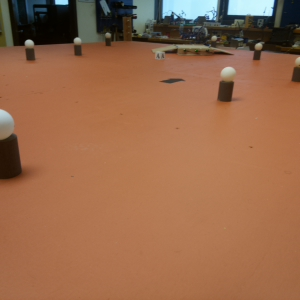obstacle: (1, 106, 23, 182), (216, 65, 237, 103), (71, 36, 85, 55), (24, 39, 36, 61), (292, 58, 300, 81), (253, 43, 262, 61), (104, 29, 112, 48), (211, 34, 218, 45)
side: (175, 46, 212, 58)
slope: (215, 48, 234, 58)
